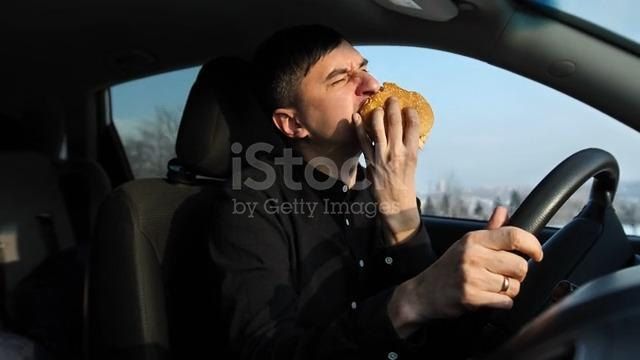Eating: (226, 13, 453, 195)
